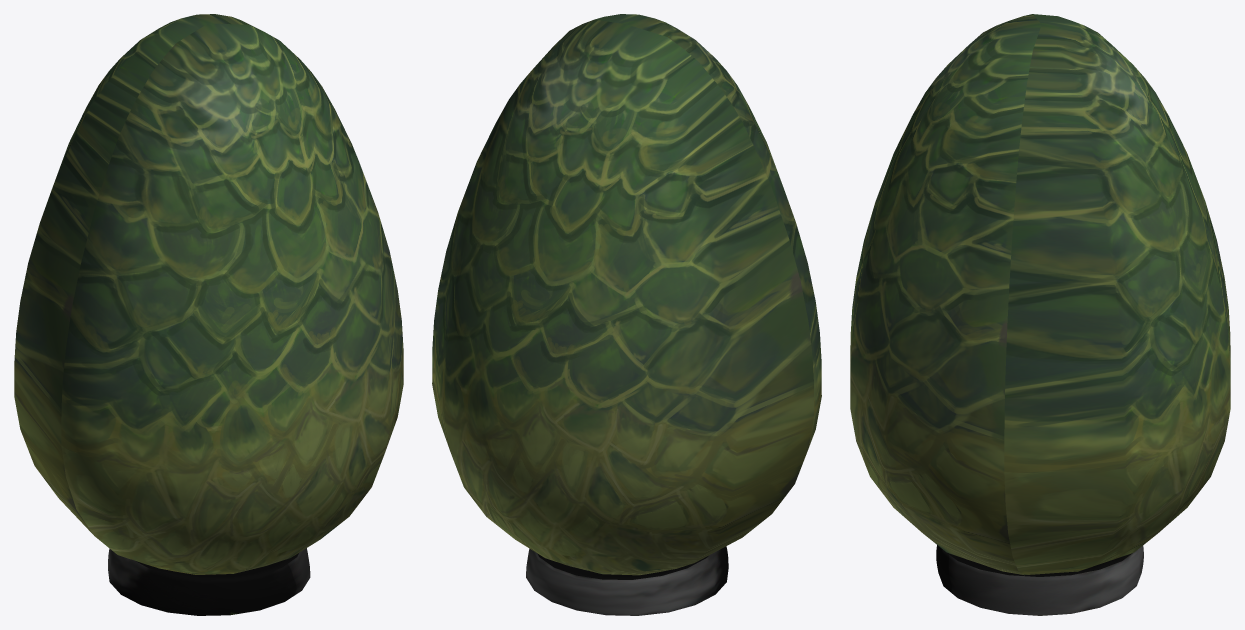
The model's file is stylized_dragon_egg.glb.
3 renders of one model, left to right at view 1: azimuth 30°, elevation 25°; view 2: azimuth 150°, elevation 25°; view 3: azimuth 270°, elevation 25°, orthographic.
Parts seen in each view (by area): view 1: Object_2; view 2: Object_2; view 3: Object_2.
Part boxes in pixels (bbox=[...]): Object_2: bbox=[14, 14, 403, 615]; Object_2: bbox=[432, 14, 821, 615]; Object_2: bbox=[850, 14, 1230, 615].
Bounding box in the file's own units: 17.89 × 28.03 × 17.61.
1 material, 1 textured.
